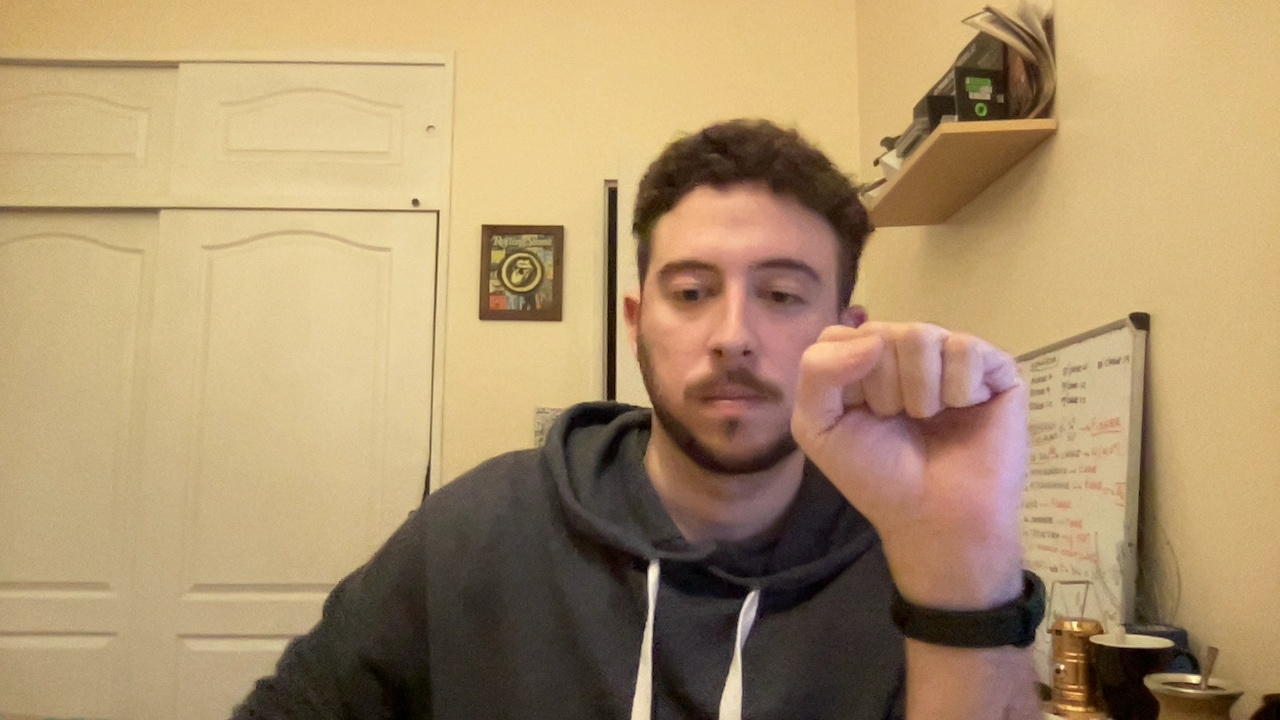cerrado: (785, 307, 1051, 541)
